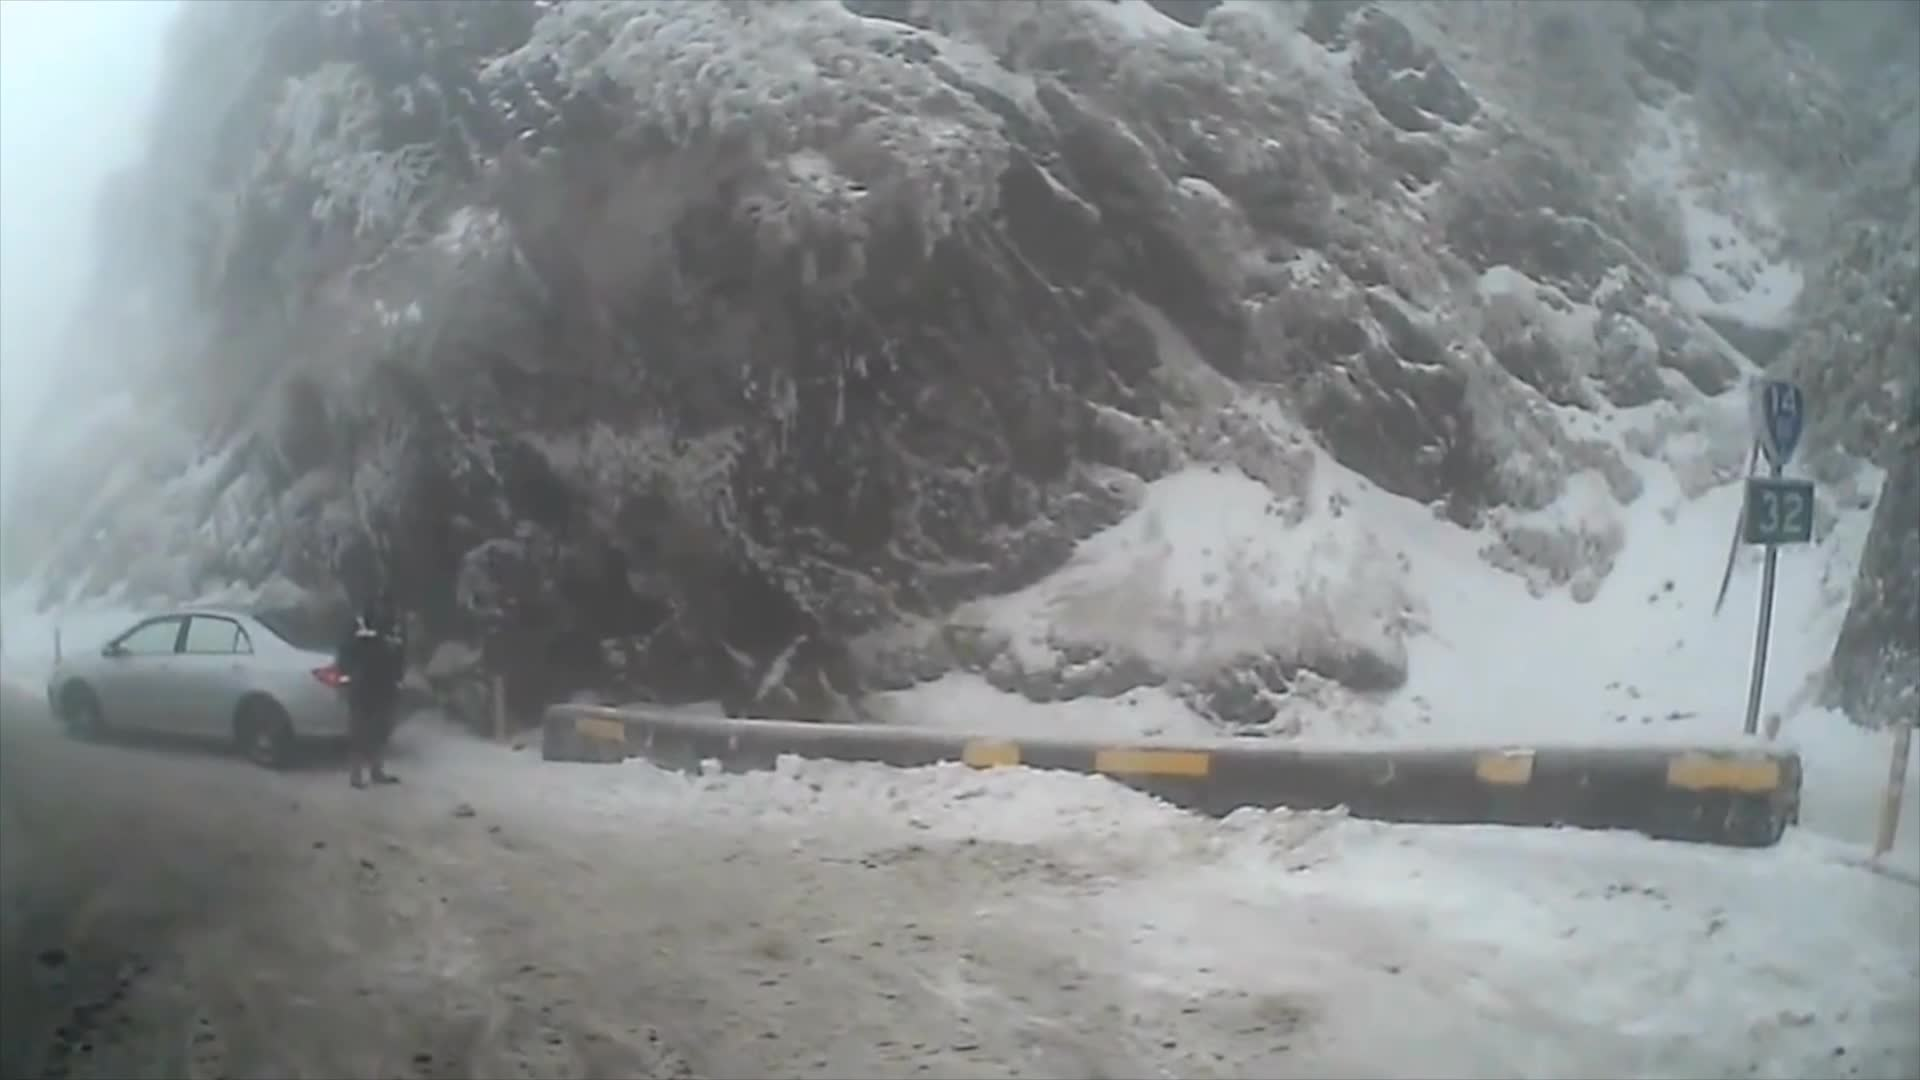pedestrian: (335, 581, 405, 783)
vehicle: (45, 600, 396, 770)
